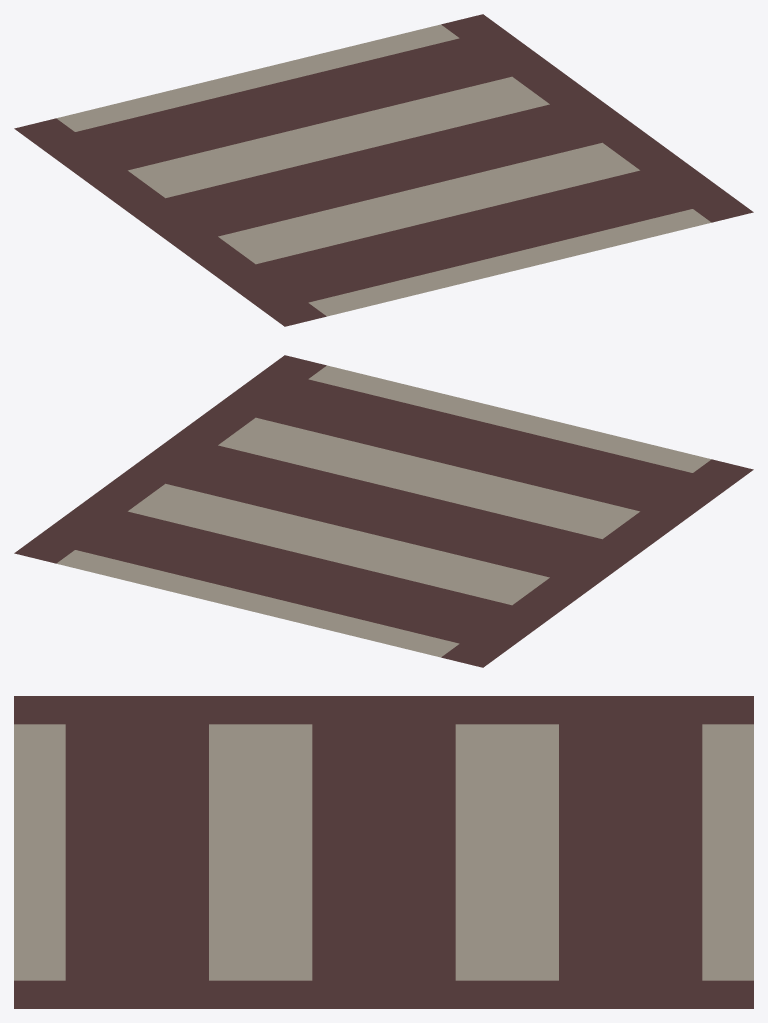
File: Road_3_Pedestrian.fbx
3 renders of one model, top to bottom at view 1: azimuth 30°, elevation 25°; view 2: azimuth 150°, elevation 25°; view 3: azimuth 270°, elevation 25°, orthographic. The views are drawn at different scales.
Parts seen in each view (by area): view 1: Road_3_Pedestrian; view 2: Road_3_Pedestrian; view 3: Road_3_Pedestrian.
Part boxes in pixels (box(x1,y1,x2,y2)): Road_3_Pedestrian: box(14, 14, 753, 326); Road_3_Pedestrian: box(14, 355, 753, 667); Road_3_Pedestrian: box(14, 696, 753, 1008).
Size of the model in its own units: 5 by 6.66e-07 by 5.
